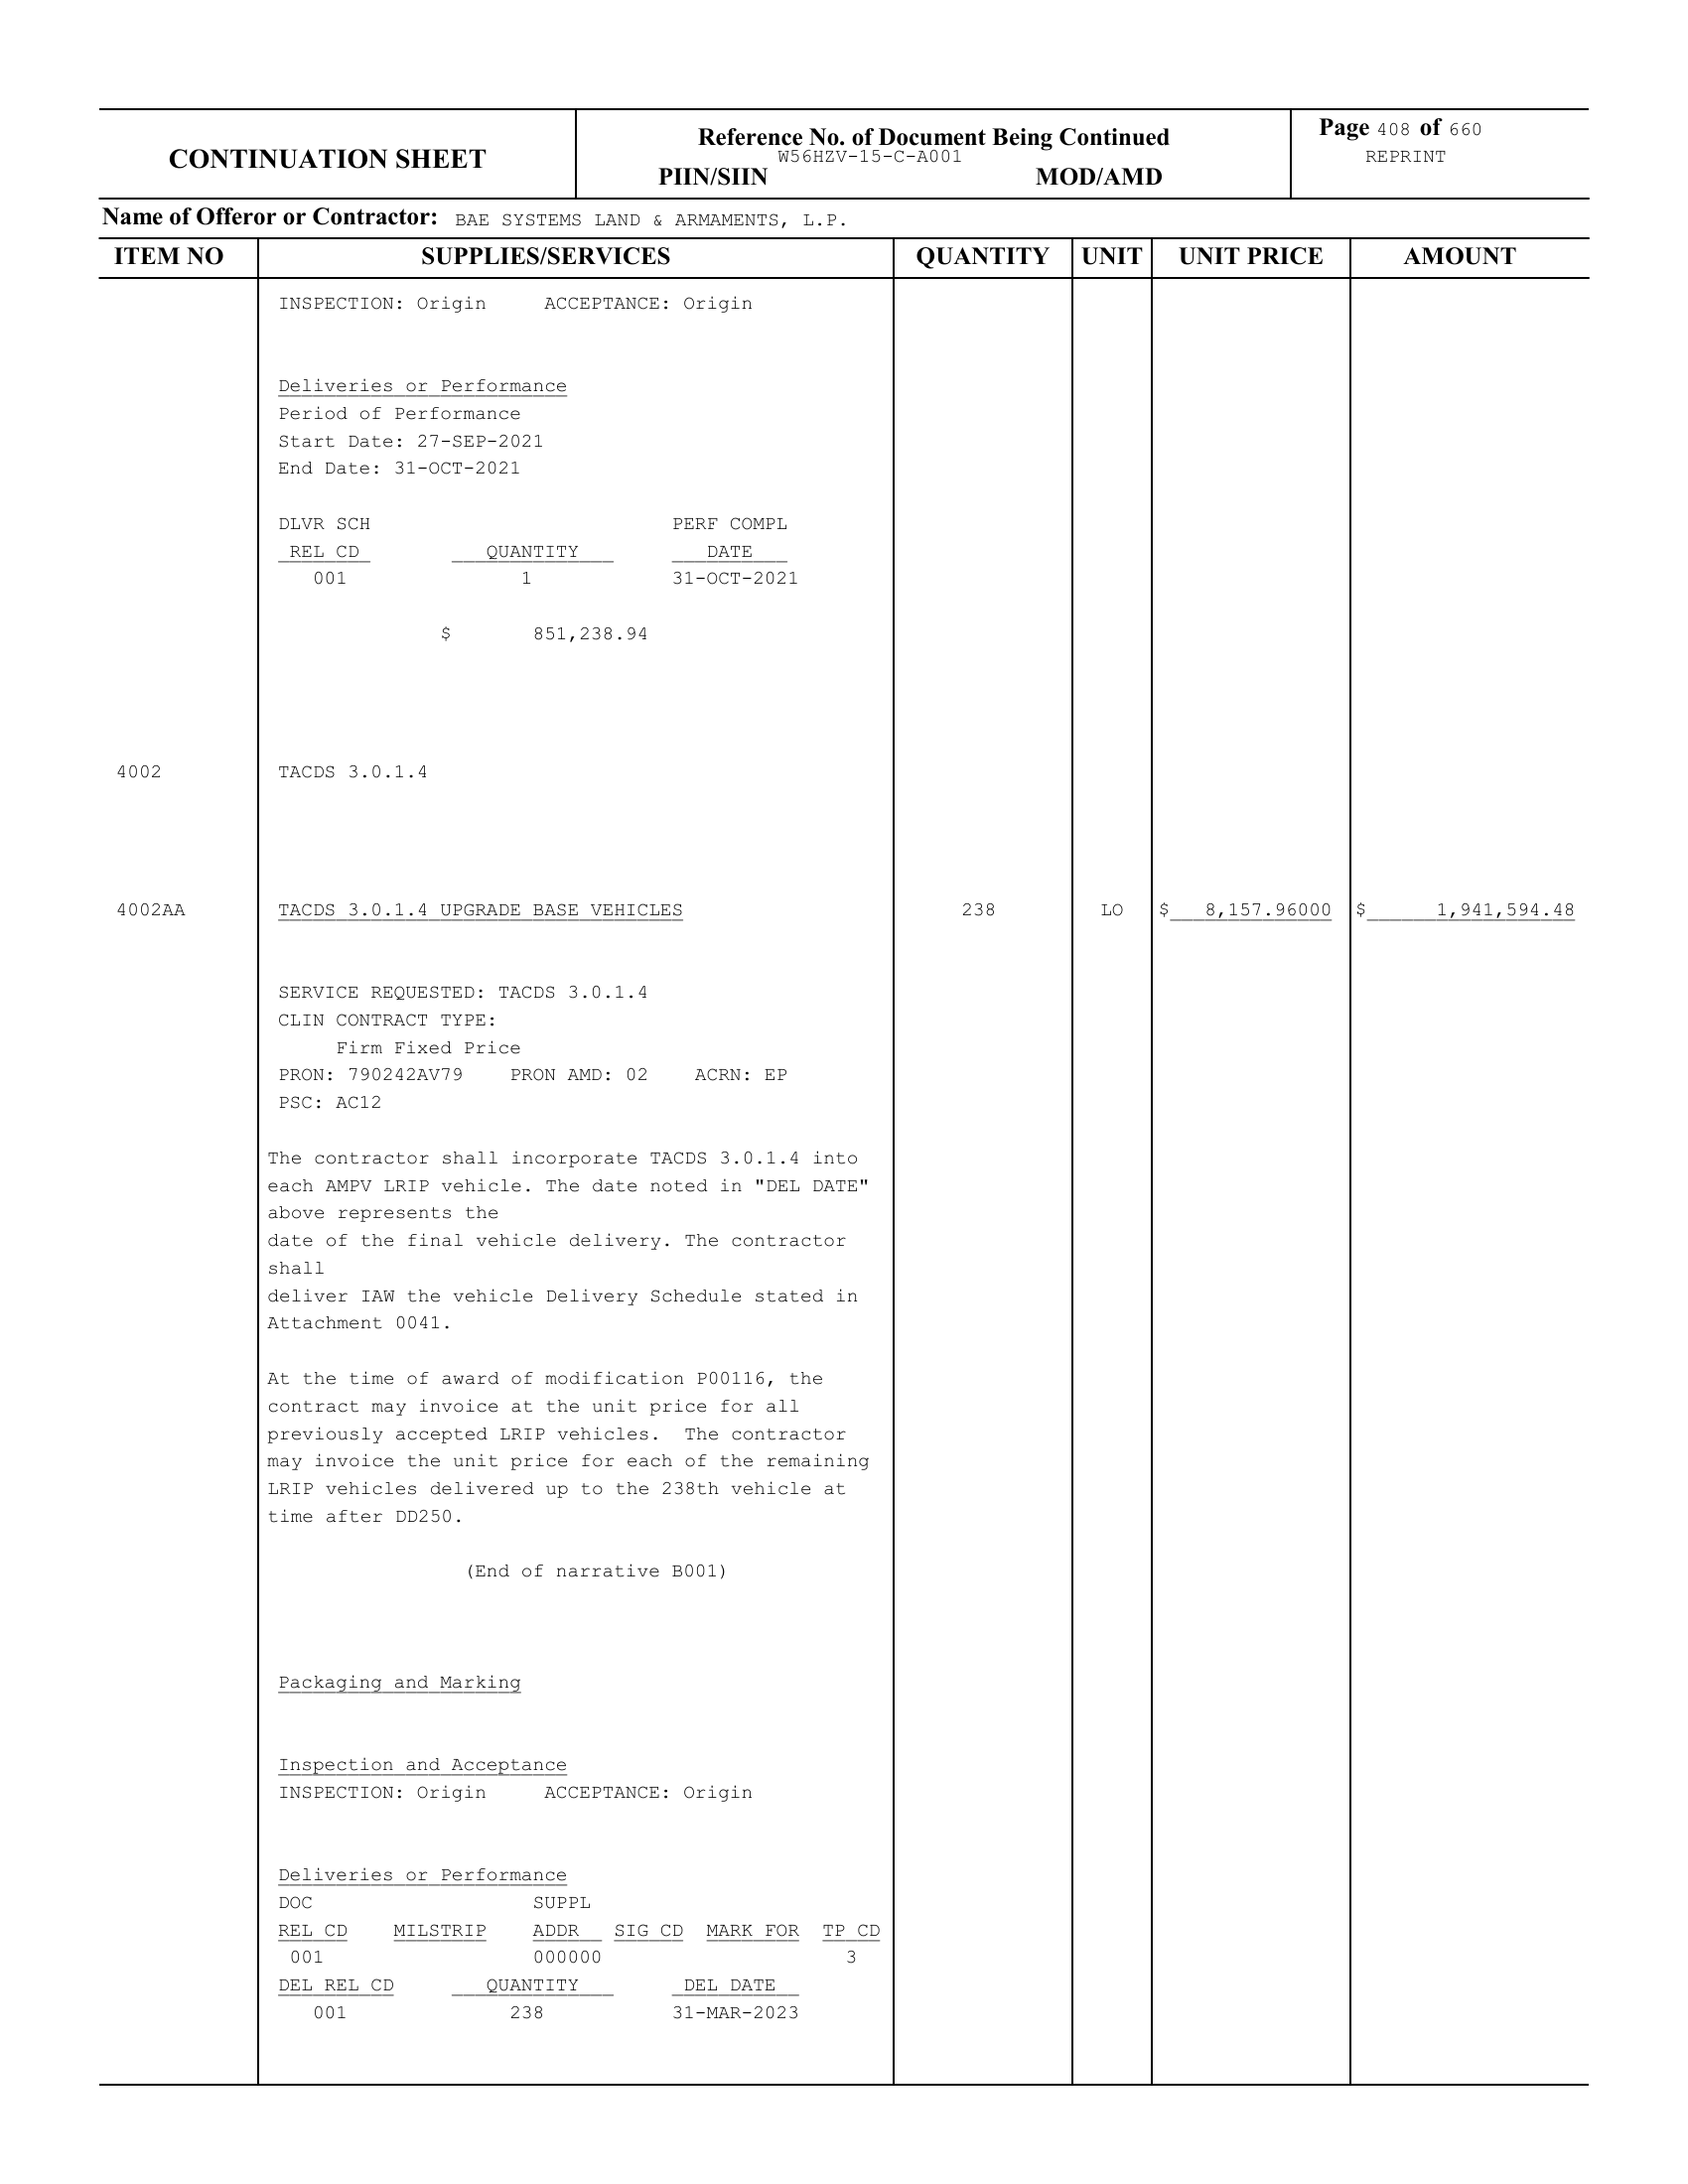table: (94, 234, 1585, 2083)
table column: (262, 238, 897, 2083), (1353, 236, 1585, 2083), (1153, 238, 1349, 2086), (899, 236, 1069, 2085), (98, 234, 259, 2083), (1073, 236, 1151, 2086)
table column header: (94, 236, 1582, 275)
table row: (96, 842, 1582, 2086), (96, 275, 1583, 697), (98, 697, 1583, 842)
